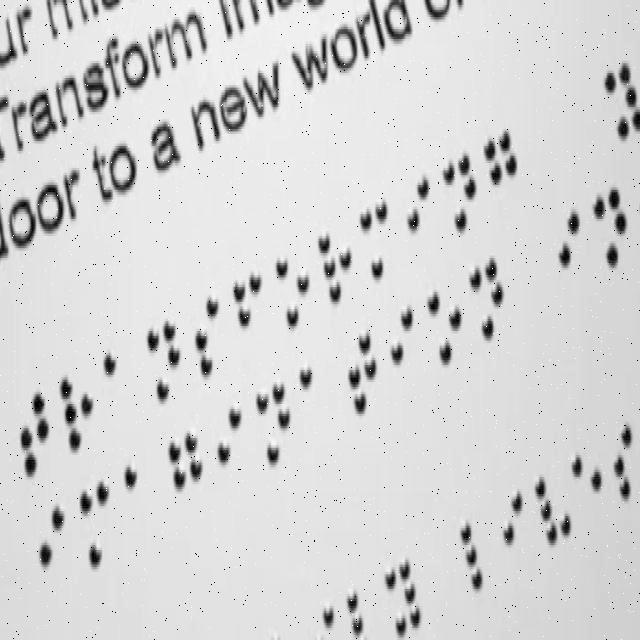A: (294, 336, 341, 458), (99, 330, 144, 437), (119, 440, 161, 554)
F: (228, 252, 277, 370)
G: (478, 111, 529, 230), (162, 413, 212, 529)
I: (547, 183, 600, 328), (29, 482, 82, 619), (393, 149, 444, 271), (378, 282, 428, 400), (207, 385, 257, 502)
L: (453, 490, 501, 610)
M: (355, 179, 404, 295), (76, 465, 123, 582)
N: (586, 164, 636, 293), (249, 365, 303, 484), (435, 132, 489, 246), (141, 300, 190, 417), (464, 240, 513, 355)
O: (422, 263, 471, 386), (270, 224, 318, 345)
R: (311, 197, 362, 322), (52, 345, 102, 467)
S: (184, 272, 232, 393)
T: (12, 369, 60, 497), (338, 309, 388, 431)
V: (528, 443, 577, 565)
Y: (380, 544, 427, 640)
